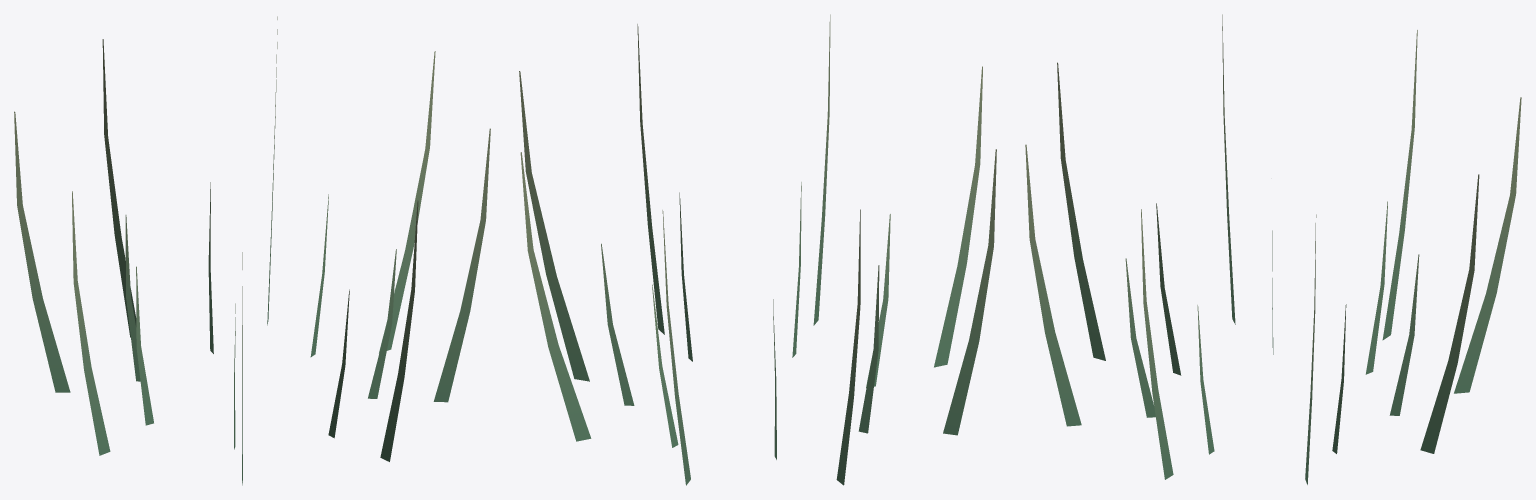
The model's file is flora_grasstuft_01_mesh_600.glb.
The picture shows the model from 3 angles, left to right: view 1: azimuth 30°, elevation 25°; view 2: azimuth 150°, elevation 25°; view 3: azimuth 270°, elevation 25°; orthographic projection. The views are drawn at different scales.
Parts seen in each view (by area): view 1: flora_grasstuft; view 2: flora_grasstuft; view 3: flora_grasstuft.
Boxes of the visible parts, left/top/right/bottom form: flora_grasstuft: left=14, top=16, right=490, bottom=485; flora_grasstuft: left=519, top=14, right=996, bottom=485; flora_grasstuft: left=1025, top=14, right=1521, bottom=484.
Bounding box in the file's own units: 0.8538 × 0.5663 × 0.8594.
